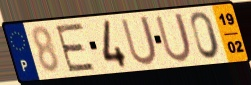0: (189, 10, 221, 61)
4: (102, 18, 130, 70)
8: (30, 24, 61, 76)
E: (54, 21, 97, 74)
U: (154, 11, 194, 65), (119, 15, 159, 68)
